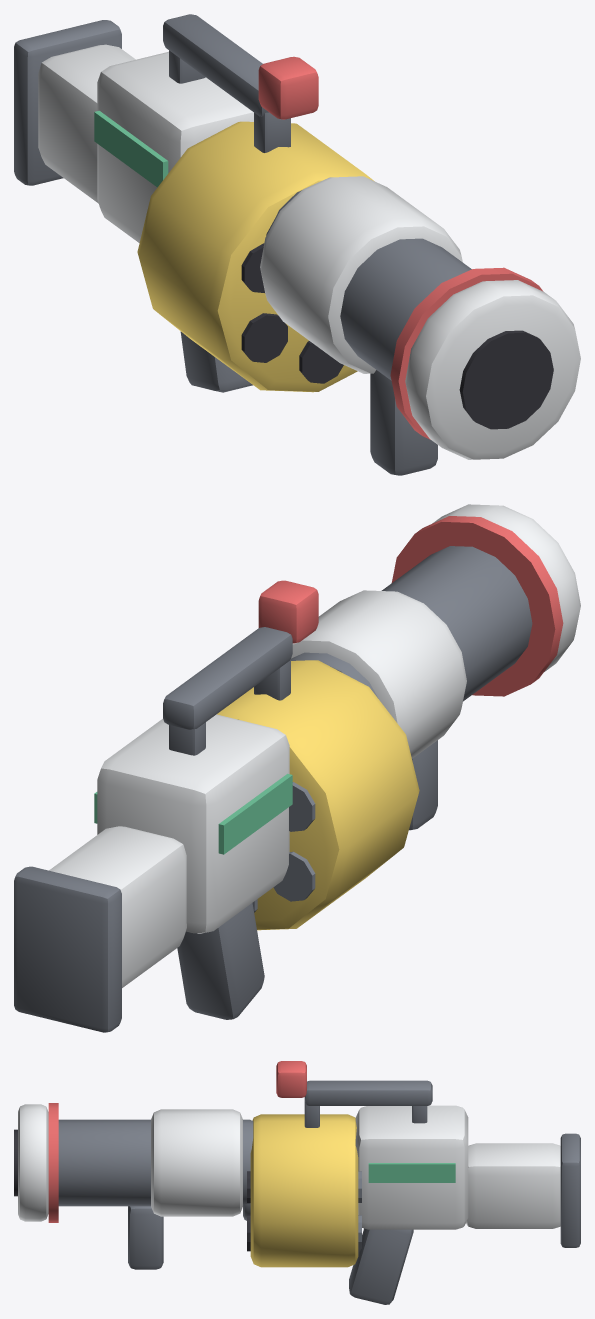
Rendered from grenade_launcher.glb.
3 renders of one model, top to bottom at view 1: azimuth 30°, elevation 25°; view 2: azimuth 150°, elevation 25°; view 3: azimuth 270°, elevation 25°, orthographic. The views are drawn at different scales.
Parts seen in each view (by area): view 1: GrenadeLauncher, Drum; view 2: GrenadeLauncher, Drum; view 3: GrenadeLauncher, Drum.
Part boxes in pixels (x1,y1,x2,y2): GrenadeLauncher: (14,14,580,475); Drum: (137,121,374,392); GrenadeLauncher: (14,504,580,1032); Drum: (217,660,419,930); GrenadeLauncher: (14,1061,580,1304); Drum: (247,1114,361,1267).
Size of the model in its own units: 0.6 by 1.01 by 2.21.
